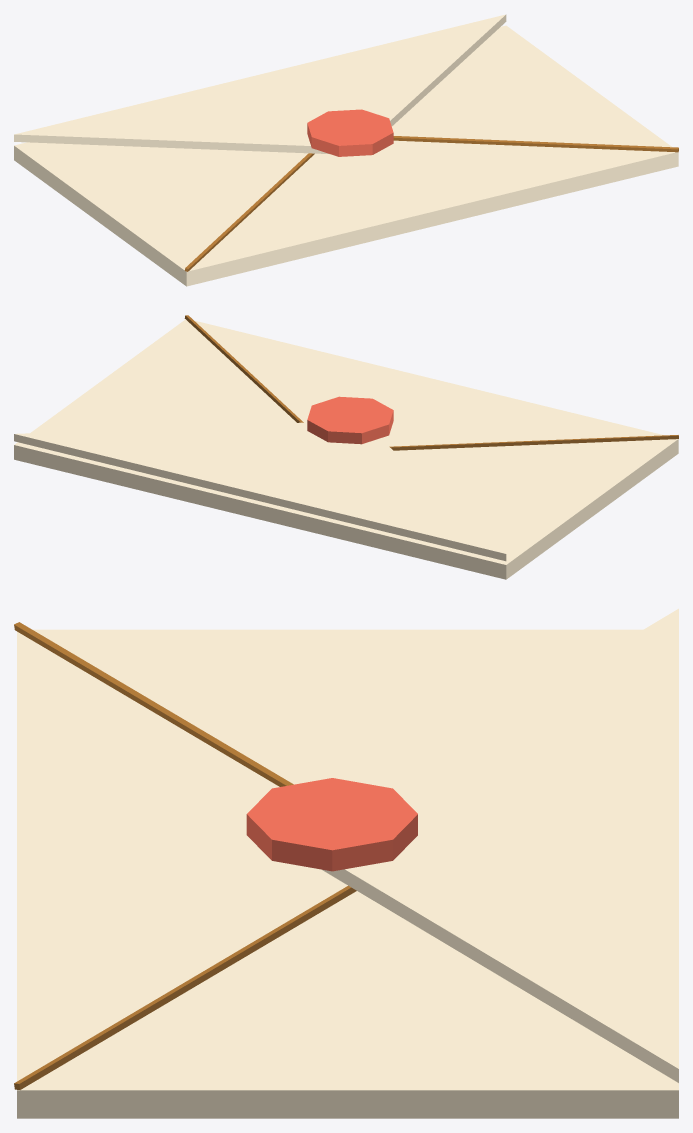
The model's file is 14-letter.glb.
3 renders of one model, top to bottom at view 1: azimuth 30°, elevation 25°; view 2: azimuth 150°, elevation 25°; view 3: azimuth 270°, elevation 25°, orthographic. The views are drawn at different scales.
Parts seen in each view (by area): view 1: 14-letter__Envelope, 14-letter__Flap, 14-letter__WaxSeal, 14-letter__Fold_1, 14-letter__Fold_0; view 2: 14-letter__Envelope, 14-letter__Flap, 14-letter__WaxSeal, 14-letter__Fold_0, 14-letter__Fold_1; view 3: 14-letter__Envelope, 14-letter__Flap, 14-letter__WaxSeal, 14-letter__Fold_1, 14-letter__Fold_0.
Boxes of the visible parts, x1,y1,x2,y2 form: 14-letter__Envelope: (14, 25, 678, 286); 14-letter__Flap: (14, 14, 506, 154); 14-letter__WaxSeal: (307, 109, 393, 156); 14-letter__Fold_1: (393, 136, 678, 152); 14-letter__Fold_0: (184, 153, 314, 271); 14-letter__Envelope: (14, 319, 678, 579); 14-letter__Flap: (14, 422, 506, 561); 14-letter__WaxSeal: (307, 396, 393, 444); 14-letter__Fold_0: (389, 435, 678, 450); 14-letter__Fold_1: (184, 315, 303, 422); 14-letter__Envelope: (17, 629, 678, 1118); 14-letter__Flap: (322, 608, 678, 1082); 14-letter__WaxSeal: (246, 778, 417, 871); 14-letter__Fold_1: (14, 885, 356, 1089); 14-letter__Fold_0: (14, 622, 293, 786).
Bounding box in the file's own units: 0.2811 × 0.021 × 0.1708.
